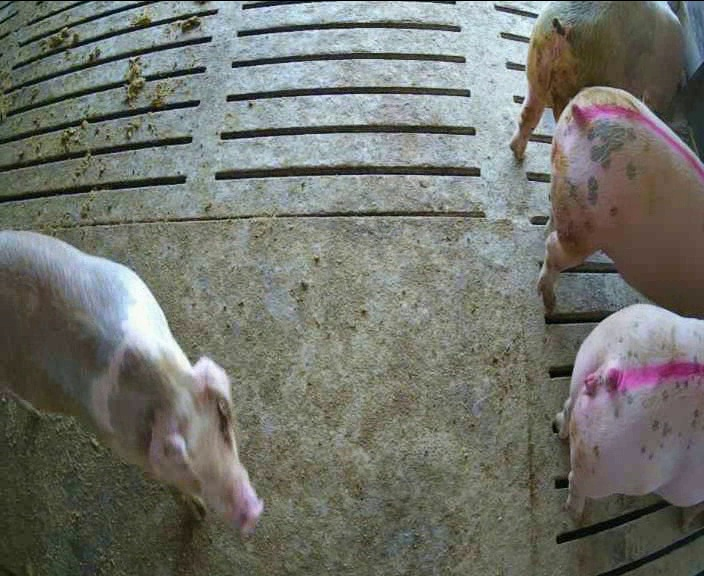pig: (538, 87, 703, 316), (556, 305, 703, 530), (510, 2, 684, 160)
